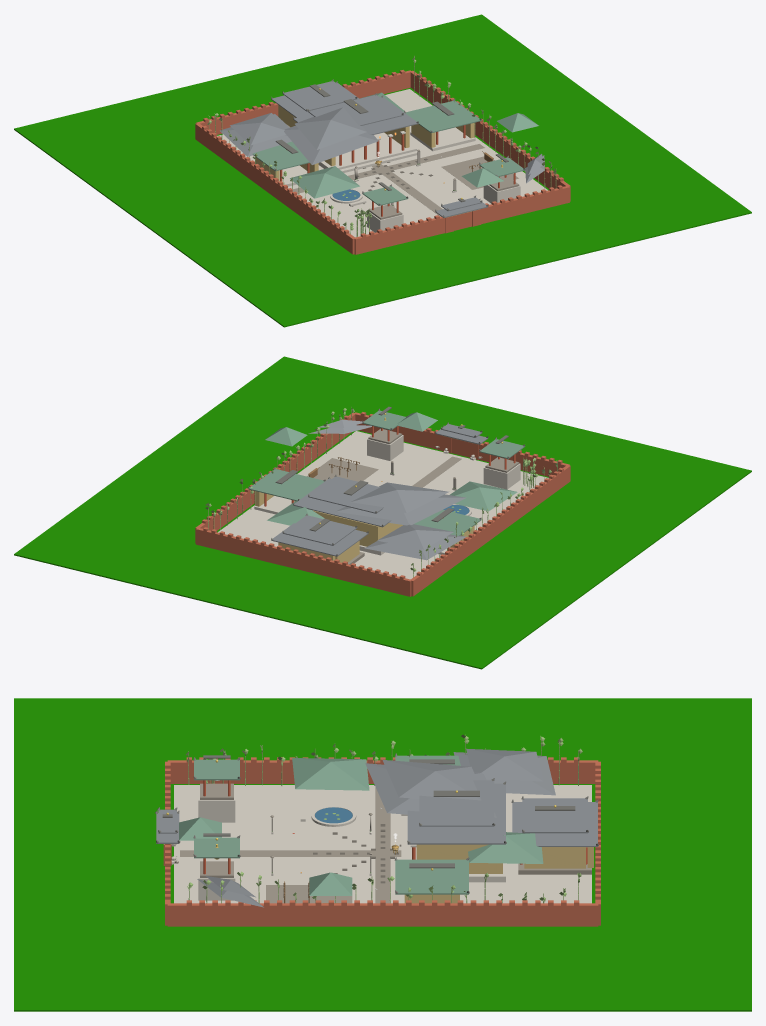
Rendered from shaolin_temple.glb.
3 renders of one model, top to bottom at view 1: azimuth 30°, elevation 25°; view 2: azimuth 150°, elevation 25°; view 3: azimuth 270°, elevation 25°, orthographic. The views are drawn at different scales.
Visible parts, largest first — view 1: Ground, Courtyard, WallS, WallW, WallN, WallE, MainHall_RoofBody_1, MainHall_RoofBody_0, EastPav_Eave_0, WestPav_RoofBody_0, MainHall_Eave_1, HallPodium (+10 smaller); view 2: Ground, Courtyard, WallN, WallW, WallS, WallE, MainHall_RoofBody_1, EastPav_Eave_0, MainHall_RoofBody_0, MainHall_Eave_1, NorthShrine_Eave_1, WestPav_RoofBody_0 (+11 smaller); view 3: Ground, Courtyard, WallE, WallW, MainHall_RoofBody_1, MainHall_Eave_0, MainHall_Eave_1, EastPav_Eave_0, WestPav_RoofBody_0, NorthShrine_Eave_1, NorthShrine_RoofBody_1, EastPav_RoofBody_0 (+15 smaller).
Boxes of the visible parts, bbox=[...] form: Ground: bbox=[14, 14, 751, 327]; Courtyard: bbox=[217, 89, 547, 237]; WallS: bbox=[354, 185, 569, 254]; WallW: bbox=[195, 123, 354, 254]; WallN: bbox=[196, 70, 411, 134]; WallE: bbox=[410, 70, 570, 201]; MainHall_RoofBody_1: bbox=[295, 107, 366, 149]; MainHall_RoofBody_0: bbox=[284, 125, 378, 164]; EastPav_Eave_0: bbox=[405, 100, 481, 133]; WestPav_RoofBody_0: bbox=[290, 166, 359, 198]; MainHall_Eave_1: bbox=[308, 95, 403, 125]; HallPodium: bbox=[318, 132, 416, 169]; Ground: bbox=[14, 356, 751, 669]; Courtyard: bbox=[218, 431, 548, 579]; WallN: bbox=[196, 527, 411, 596]; WallW: bbox=[411, 465, 570, 596]; WallS: bbox=[354, 412, 569, 476]; WallE: bbox=[195, 413, 355, 543]; MainHall_RoofBody_1: bbox=[350, 482, 449, 512]; EastPav_Eave_0: bbox=[248, 469, 324, 501]; MainHall_RoofBody_0: bbox=[336, 494, 466, 525]; MainHall_Eave_1: bbox=[308, 476, 383, 513]; NorthShrine_Eave_1: bbox=[282, 515, 357, 545]; WestPav_RoofBody_0: bbox=[450, 481, 517, 511]; Ground: bbox=[14, 698, 751, 1011]; Courtyard: bbox=[174, 785, 591, 903]; WallE: bbox=[167, 903, 598, 926]; WallW: bbox=[167, 760, 598, 783]; MainHall_RoofBody_1: bbox=[382, 759, 481, 800]; MainHall_Eave_0: bbox=[407, 783, 505, 844]; MainHall_Eave_1: bbox=[419, 780, 494, 826]; EastPav_Eave_0: bbox=[395, 859, 468, 894]; WestPav_RoofBody_0: bbox=[292, 758, 369, 790]; NorthShrine_Eave_1: bbox=[522, 798, 587, 833]; NorthShrine_RoofBody_1: bbox=[466, 748, 543, 781]; EastPav_RoofBody_0: bbox=[468, 832, 543, 863].
Size of the model in its own units: 120 by 11.72 by 120.
